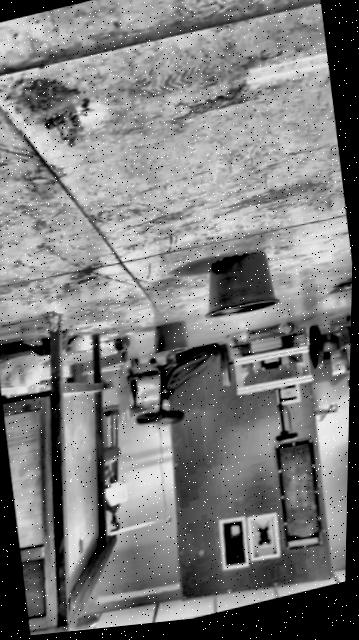pot: (196, 245, 278, 324), (148, 319, 188, 358)
